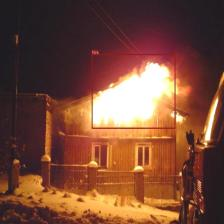fire: (92, 54, 175, 128)
